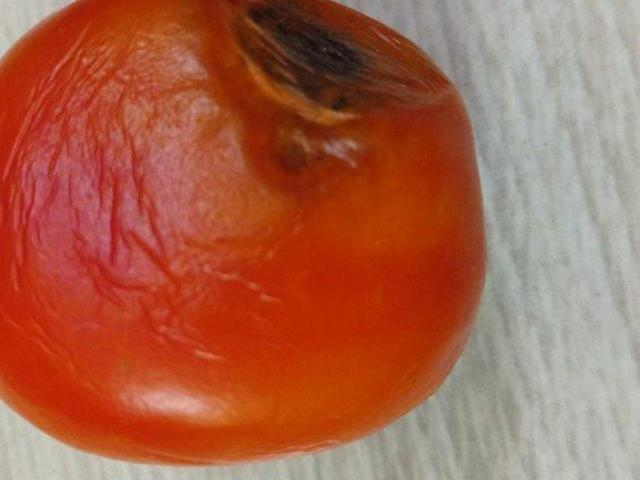defect: (0, 0, 494, 471)
